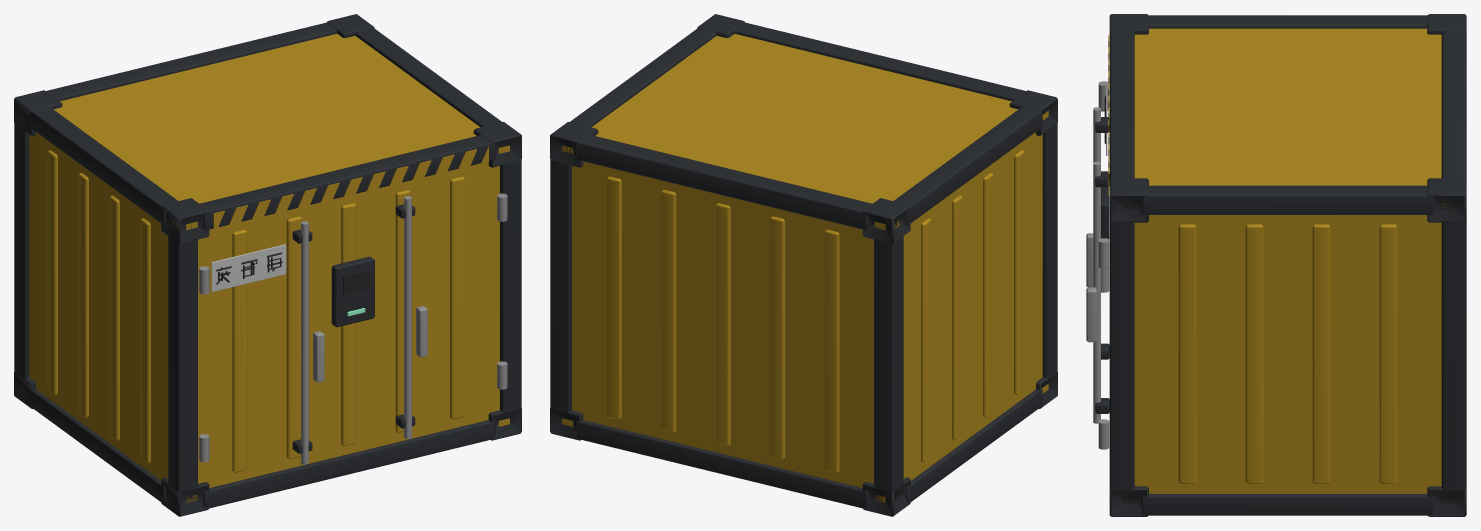
The model's file is Crate_Cargo_Yellow.fbx.
3 renders of one model, left to right at view 1: azimuth 30°, elevation 25°; view 2: azimuth 150°, elevation 25°; view 3: azimuth 270°, elevation 25°, orthographic. The views are drawn at different scales.
Visible parts, largest first — view 1: Crate_Cargo_Yellow_LOD0; view 2: Crate_Cargo_Yellow_LOD0; view 3: Crate_Cargo_Yellow_LOD0.
Boxes of the visible parts, x1=… form: Crate_Cargo_Yellow_LOD0: x1=14, y1=14, x2=521, y2=516; Crate_Cargo_Yellow_LOD0: x1=550, y1=14, x2=1057, y2=516; Crate_Cargo_Yellow_LOD0: x1=1086, y1=14, x2=1466, y2=516.
Size of what is drawn, in the model's own units: 1.2 by 1 by 1.06.
